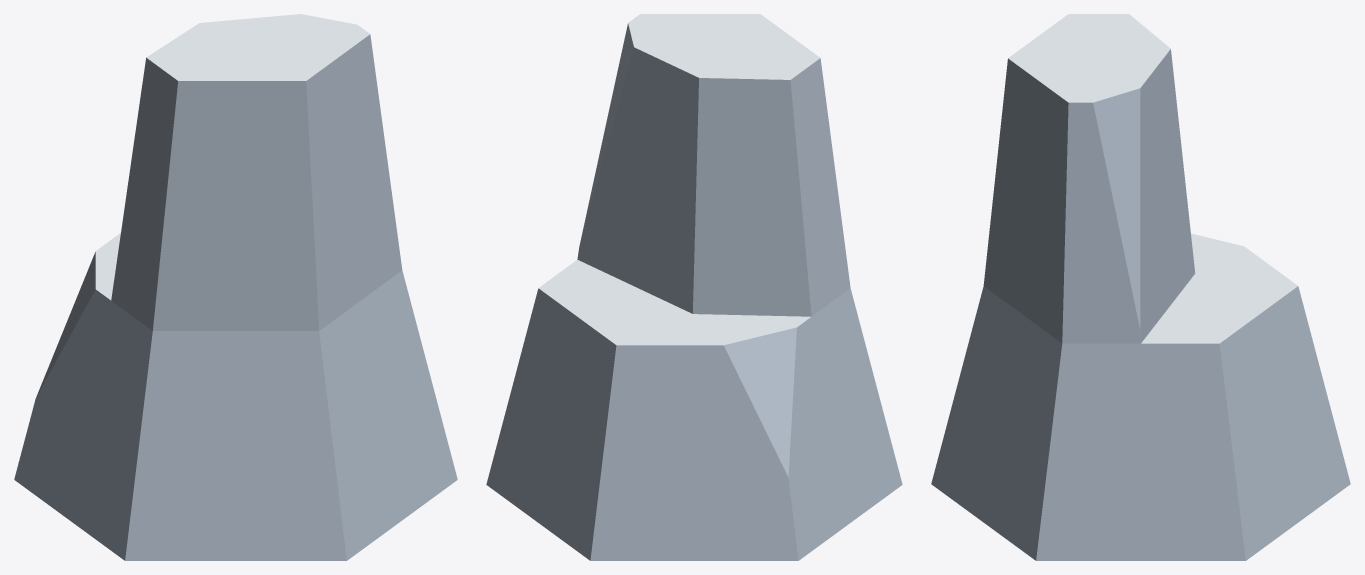
The model's file is nk_rockice_tallF.glb.
The picture shows the model from 3 angles, left to right: view 1: azimuth 30°, elevation 25°; view 2: azimuth 150°, elevation 25°; view 3: azimuth 270°, elevation 25°; orthographic projection. The views are drawn at different scales.
Parts seen in each view (by area): view 1: rock_tallF; view 2: rock_tallF; view 3: rock_tallF.
Part boxes in pixels (<box>): rock_tallF: <box>14,14,457,560</box>; rock_tallF: <box>486,14,902,560</box>; rock_tallF: <box>931,14,1350,560</box>.
Bounding box in the file's own units: 2.2 × 2.84 × 2.54.
